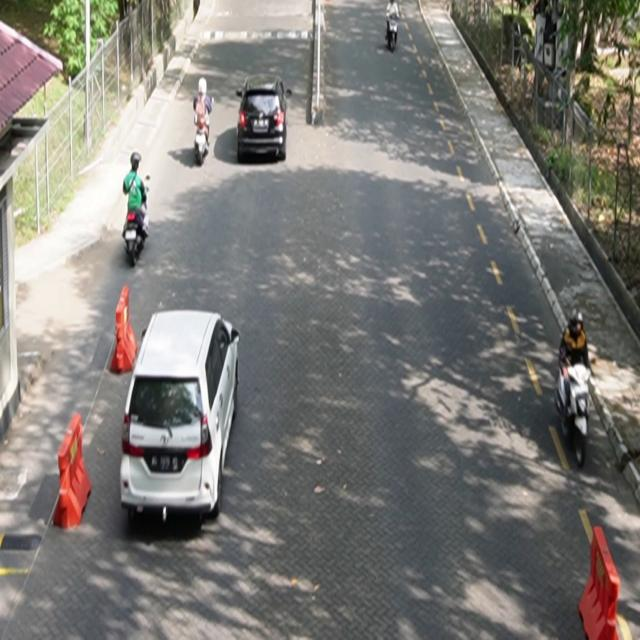car: (120, 309, 241, 526), (237, 74, 293, 164)
